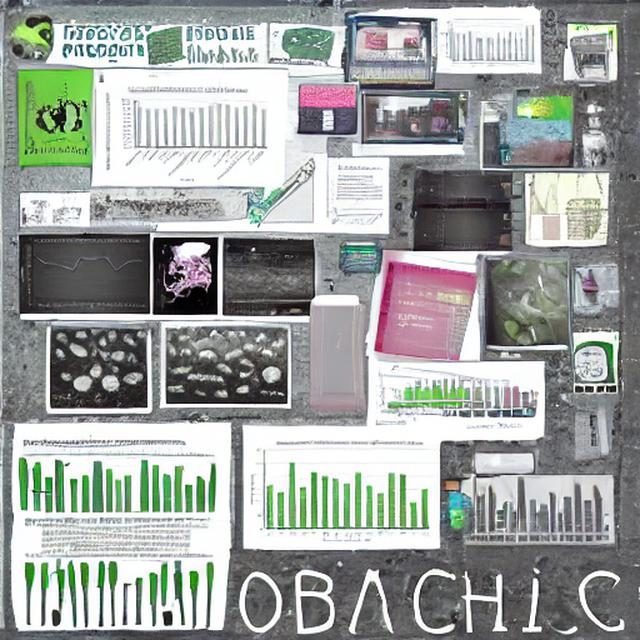Graph: (245, 435, 435, 548), (101, 87, 273, 184), (20, 237, 150, 314), (440, 15, 537, 70), (433, 207, 497, 251), (326, 197, 386, 231)
